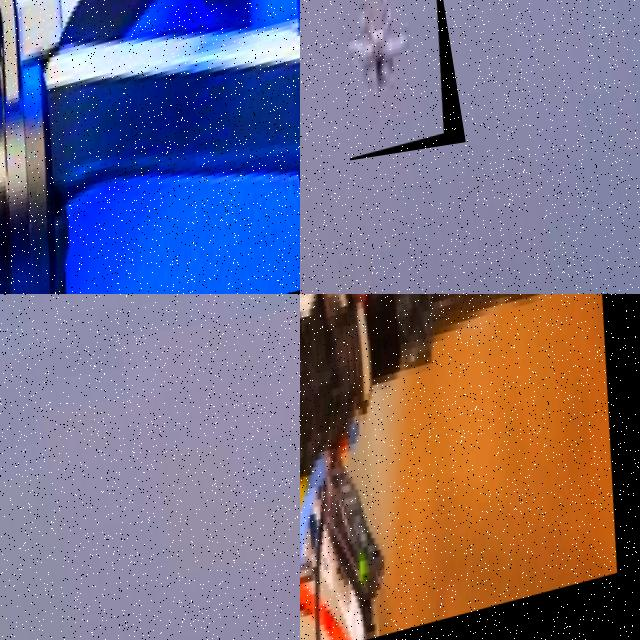0: (319, 0, 465, 160)
drone: (300, 294, 640, 640), (0, 0, 300, 294)
